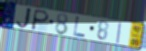8: (54, 12, 71, 36), (96, 20, 110, 41)
I: (116, 21, 123, 45)
J: (15, 6, 33, 30)
L: (72, 16, 87, 39)
P: (30, 8, 51, 32)
